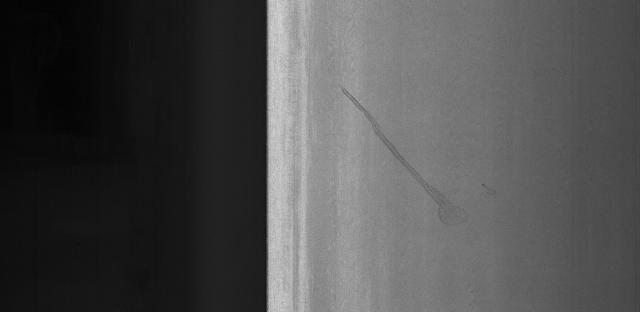water_spot: (328, 77, 510, 235)
